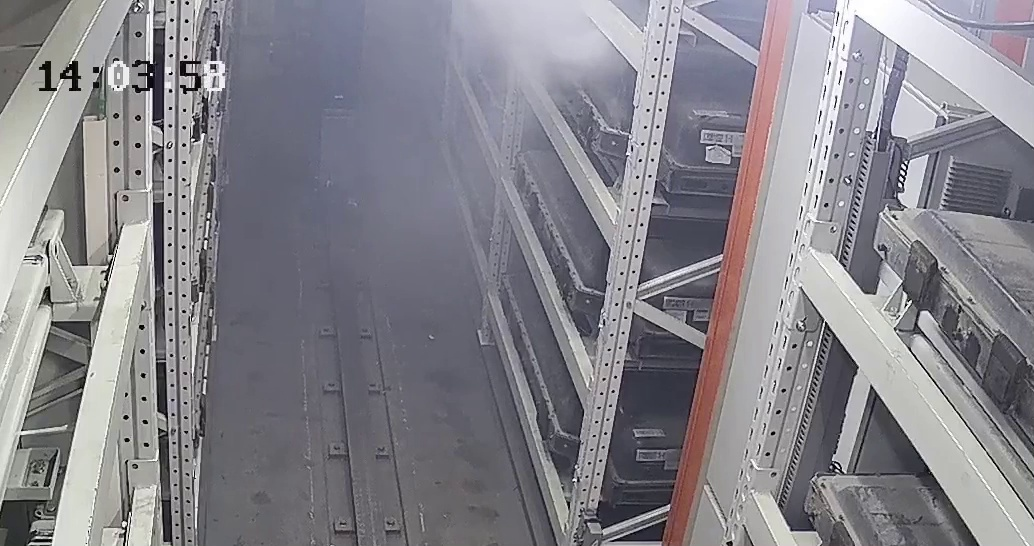smoke: (447, 2, 618, 81)
